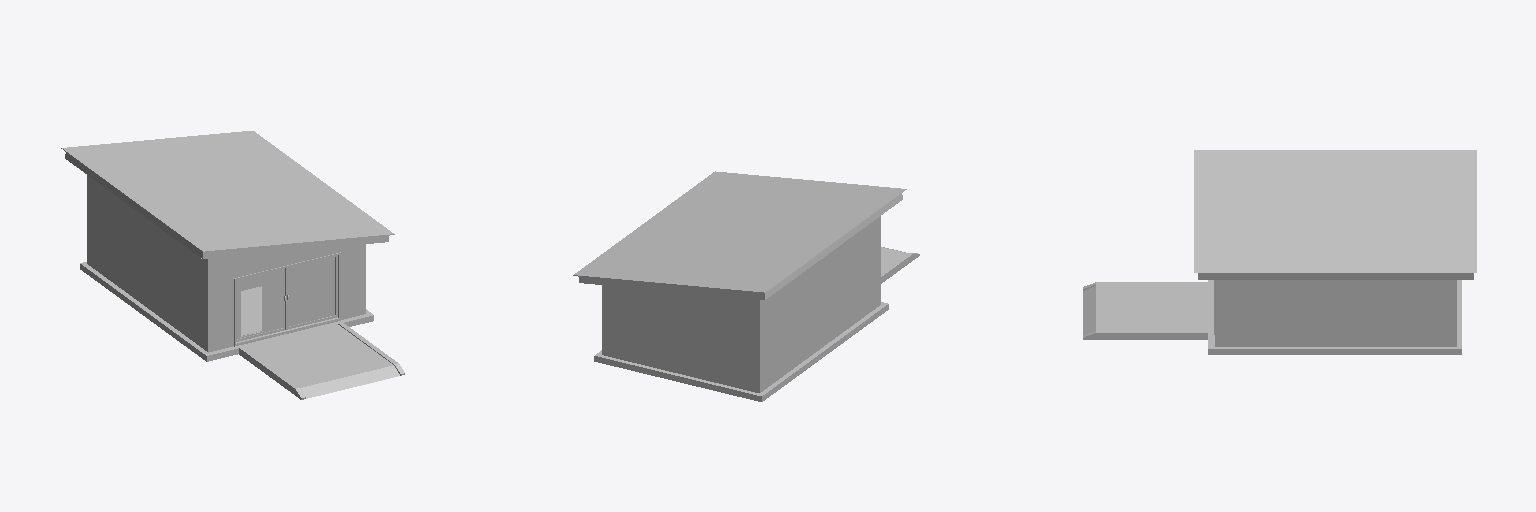
The model's file is garage.obj.
3 views of the same model, side by side, from view 1: azimuth 30°, elevation 25°; view 2: azimuth 150°, elevation 25°; view 3: azimuth 270°, elevation 25° (orthographic).
Visible parts, largest first — view 1: Rectangle001; view 2: Rectangle001; view 3: Rectangle001.
Boxes of the visible parts, x1,y1,x2,y2 form: Rectangle001: [61, 131, 404, 399]; Rectangle001: [573, 171, 919, 401]; Rectangle001: [1083, 150, 1476, 354].
Bounding box in the file's own units: 6.62 × 3.9 × 11.81.